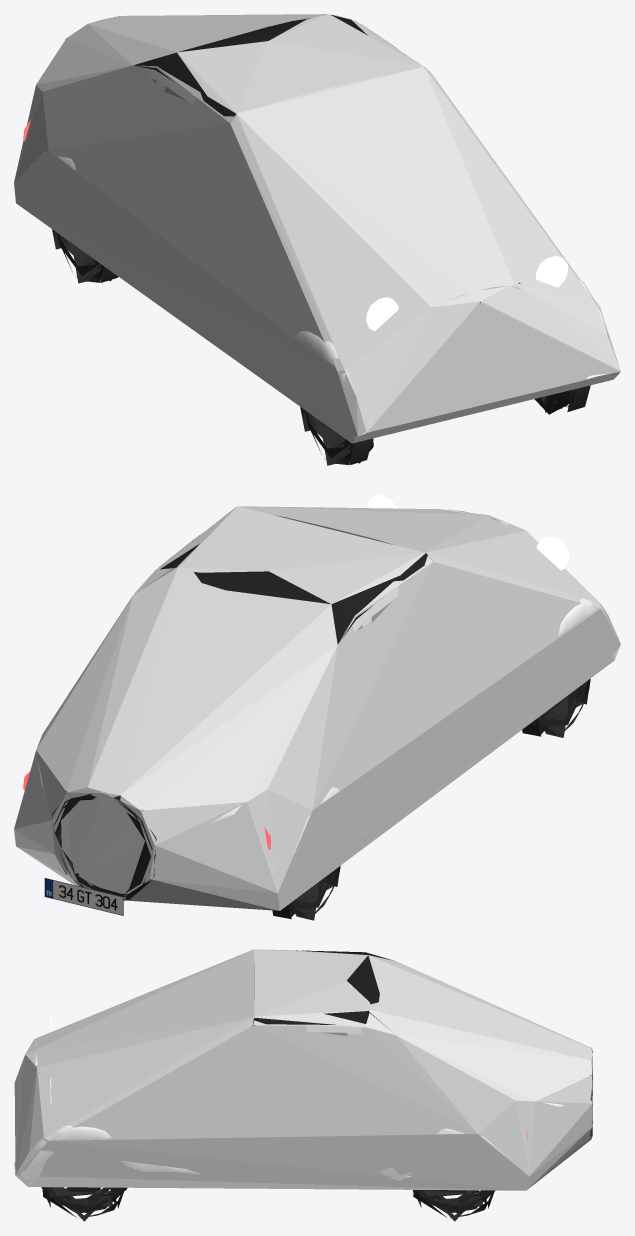
File: bosfor_galata_lod2.glb
3 renders of one model, top to bottom at view 1: azimuth 30°, elevation 25°; view 2: azimuth 150°, elevation 25°; view 3: azimuth 270°, elevation 25°, orthographic. The views are drawn at different scales.
Parts seen in each view (by area): view 1: col_body, trim, body, wheel_FR, lights_front, wheel_RR, wheel_FL; view 2: col_body, trim, body, wheel_FR, plate_rear, wheel_RR, lights_front; view 3: col_body, body, wheel_FL, trim, wheel_RL.
Boxes of the visible parts, x1,y1,x2,y2 form: col_body: (14, 14, 620, 443); trim: (65, 15, 520, 307); body: (30, 18, 619, 443); wheel_FR: (300, 407, 373, 465); lights_front: (366, 255, 567, 330); wheel_RR: (52, 229, 118, 283); wheel_FL: (534, 385, 590, 414); col_body: (14, 506, 620, 910); trim: (52, 507, 432, 900); body: (38, 509, 620, 854); wheel_FR: (522, 678, 590, 737); plate_rear: (44, 878, 123, 915); wheel_RR: (272, 866, 340, 920); lights_front: (367, 494, 568, 570); col_body: (14, 949, 592, 1190); body: (14, 965, 564, 1185); wheel_FL: (41, 1187, 127, 1221); trim: (39, 950, 592, 1136); wheel_RL: (413, 1190, 495, 1221).
Size of the model in its own units: 1.74 by 1.69 by 4.67.
9 materials, 1 textured.
